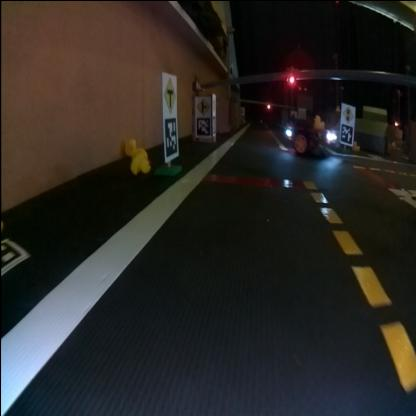Duckie: (132, 152, 151, 172), (125, 139, 136, 154), (314, 113, 324, 126), (353, 140, 359, 148)
Duckiebot: (284, 122, 336, 152)
Intersection sign: (163, 74, 176, 112), (196, 96, 210, 113)
QR code: (2, 238, 30, 271), (164, 116, 178, 156), (340, 123, 354, 143), (196, 116, 210, 134), (212, 114, 216, 132)
Signal sign: (342, 104, 354, 120)
Traffic light: (286, 73, 296, 85), (266, 102, 271, 107)
